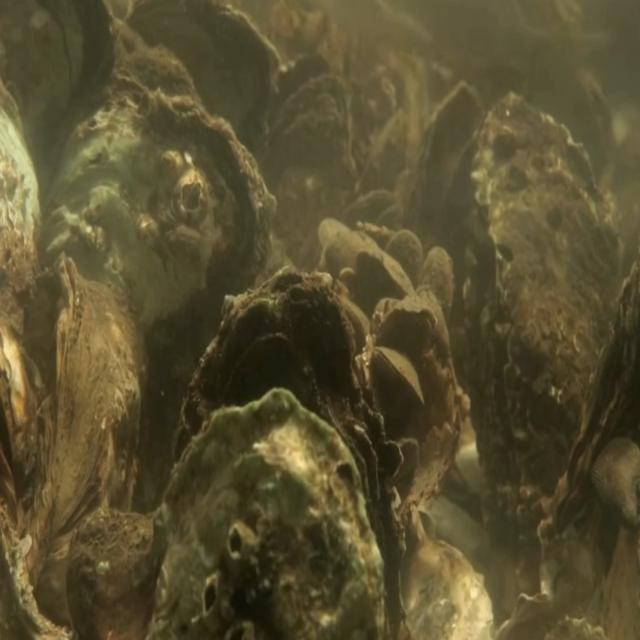Oyster-Closed: (45, 87, 274, 500), (171, 265, 402, 640), (456, 89, 614, 532), (145, 386, 384, 640), (532, 256, 640, 590), (370, 344, 424, 407), (378, 304, 436, 352)
Oyster-Indeterminate: (28, 250, 142, 640), (406, 78, 486, 310), (353, 244, 413, 298), (384, 227, 424, 299), (421, 245, 454, 320)
Oyster-Open: (255, 50, 352, 262)
